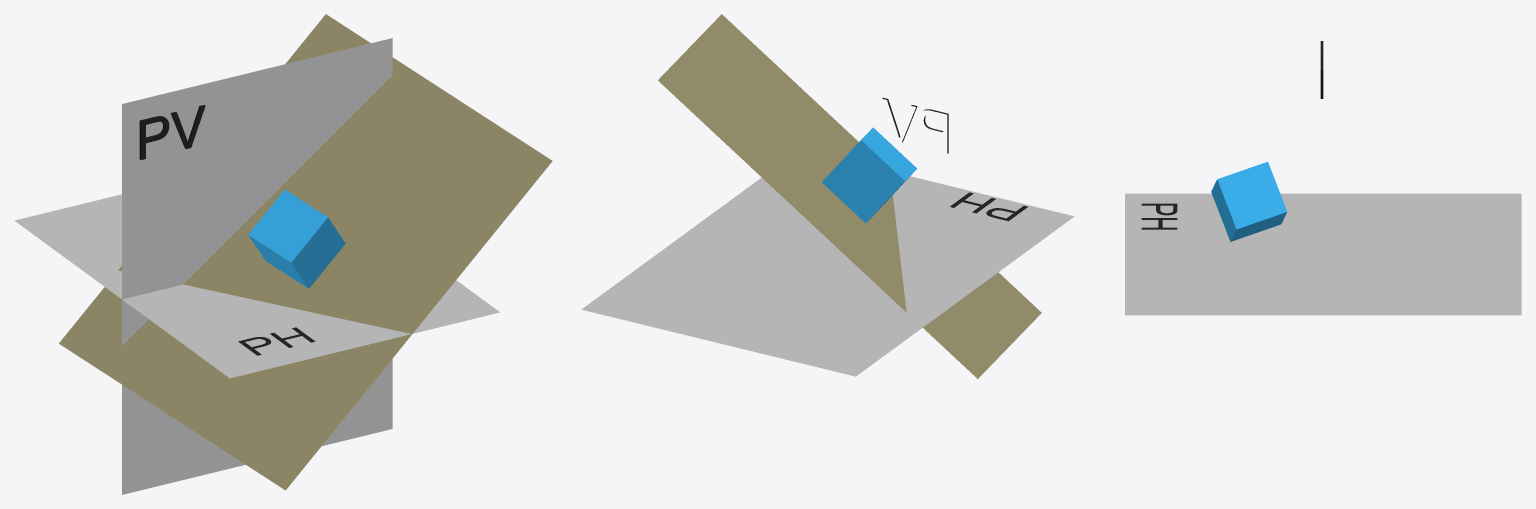
The model's file is asset.glb.
3 renders of one model, left to right at view 1: azimuth 30°, elevation 25°; view 2: azimuth 150°, elevation 25°; view 3: azimuth 270°, elevation 25°, orthographic. The views are drawn at different scales.
Parts seen in each view (by area): view 1: Plane003, Plane002, Plane001, Box001, Text003; view 2: Plane001, Plane003, Box001; view 3: Plane001, Box001.
Boxes of the visible parts, left/top/right/bottom form: Plane003: left=59, top=14, right=552, bottom=490; Plane002: left=122, top=38, right=392, bottom=494; Plane001: left=14, top=194, right=499, bottom=378; Box001: left=248, top=189, right=345, bottom=288; Text003: left=139, top=105, right=205, bottom=159; Plane001: left=581, top=176, right=1074, bottom=376; Plane003: left=658, top=14, right=1041, bottom=378; Box001: left=822, top=127, right=916, bottom=223; Plane001: left=1125, top=193, right=1521, bottom=315; Box001: left=1211, top=161, right=1287, bottom=241.
Bounding box in the file's own units: 0.2897 × 0.29 × 0.3057.
